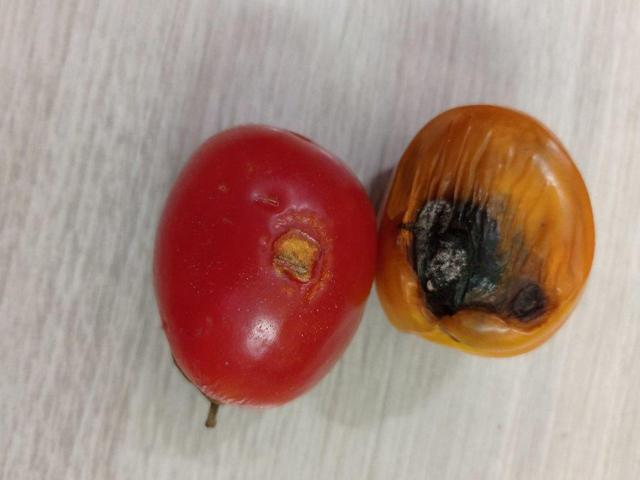defect: (143, 120, 377, 411), (374, 107, 599, 359)
